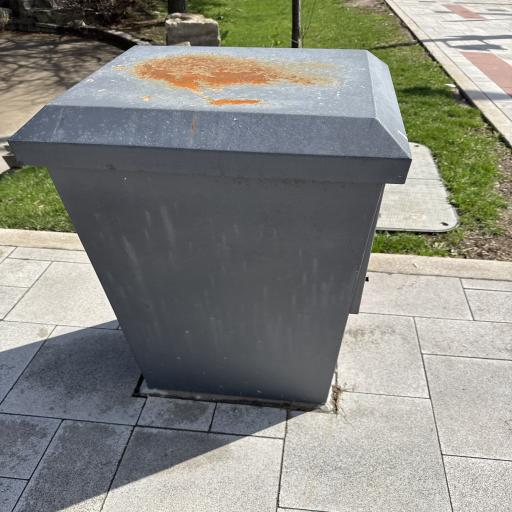Electrical Box: (6, 43, 418, 407)
